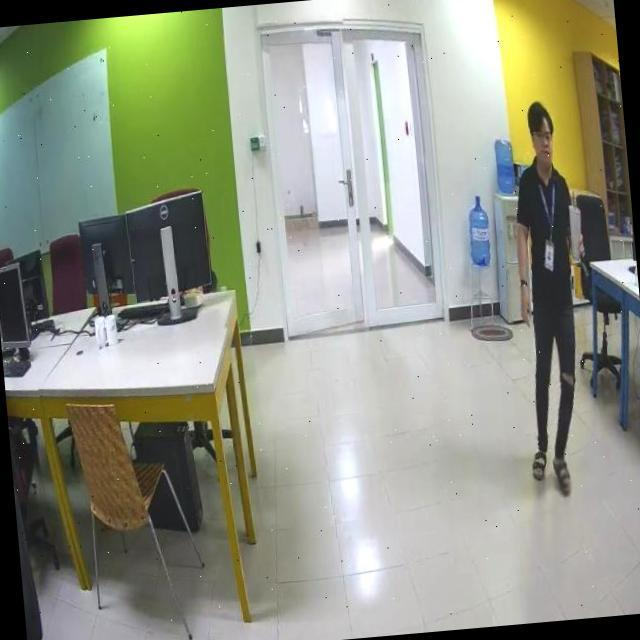person: (504, 101, 605, 491)
